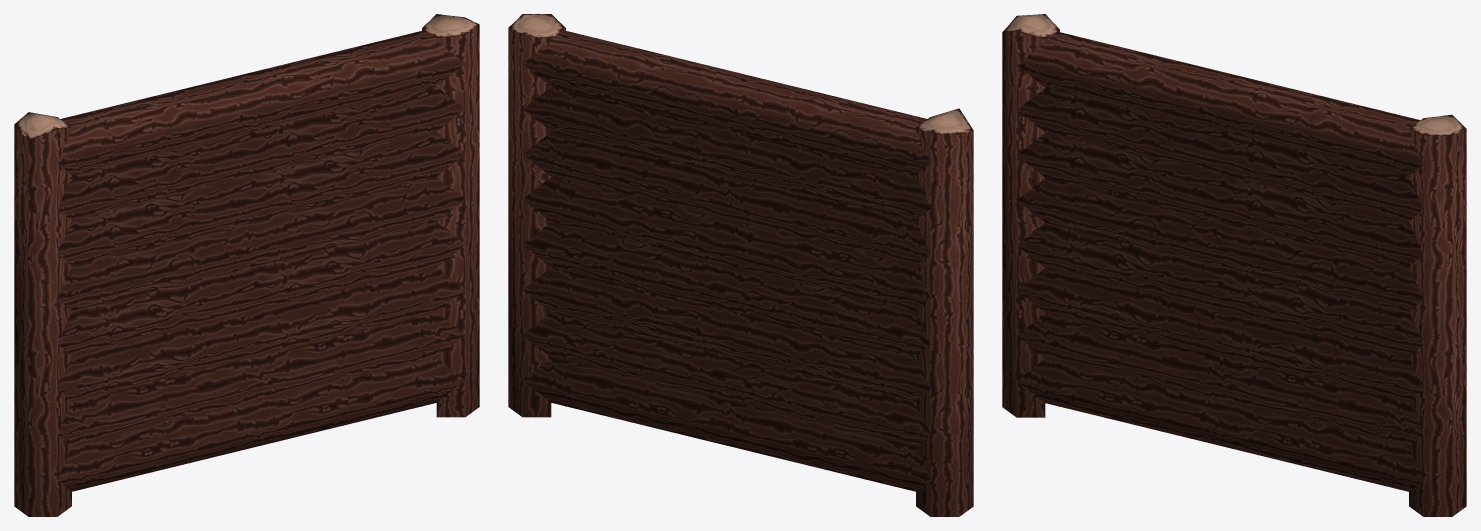
File: wood_wall.fbx
The picture shows the model from 3 angles, left to right: view 1: azimuth 30°, elevation 25°; view 2: azimuth 150°, elevation 25°; view 3: azimuth 330°, elevation 25°; orthographic projection.
Visible parts, largest first — view 1: wall; view 2: wall; view 3: wall.
Boxes of the visible parts, x1,y1,x2,y2 form: wall: [14, 14, 479, 516]; wall: [508, 14, 973, 516]; wall: [1002, 14, 1466, 516].
Size of the model in its own units: 323 by 267 by 35.68.
